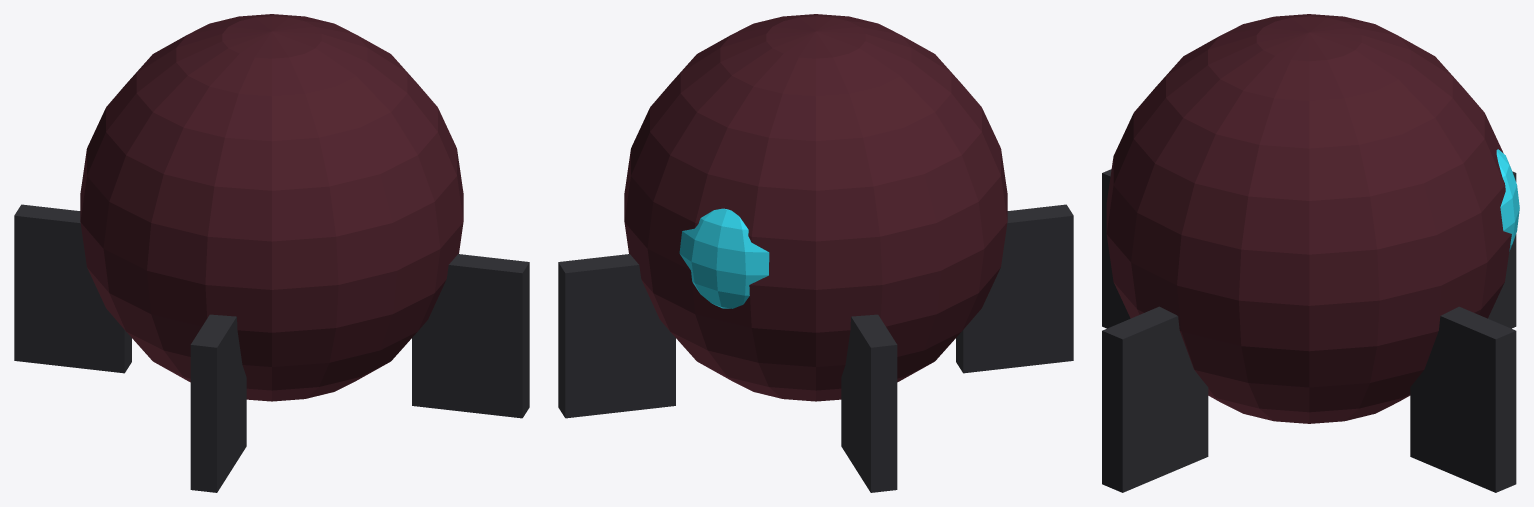
Rendered from boss_argus.obj.
3 renders of one model, left to right at view 1: azimuth 30°, elevation 25°; view 2: azimuth 150°, elevation 25°; view 3: azimuth 270°, elevation 25°, orthographic. The views are drawn at different scales.
Visible parts, largest first — view 1: shell, fin; view 2: shell, fin, eye; view 3: shell, fin, eye.
Part boxes in pixels (left/top/right/bottom): shell: left=80, top=14, right=463, bottom=401; fin: left=14, top=204, right=529, bottom=492; shell: left=624, top=14, right=1007, bottom=401; fin: left=558, top=204, right=1073, bottom=492; eye: left=679, top=208, right=769, bottom=308; shell: left=1106, top=14, right=1511, bottom=423; fin: left=1102, top=169, right=1516, bottom=492; eye: left=1496, top=149, right=1519, bottom=251.
Size of the model in its own units: 1.71 by 1.7 by 1.73.
